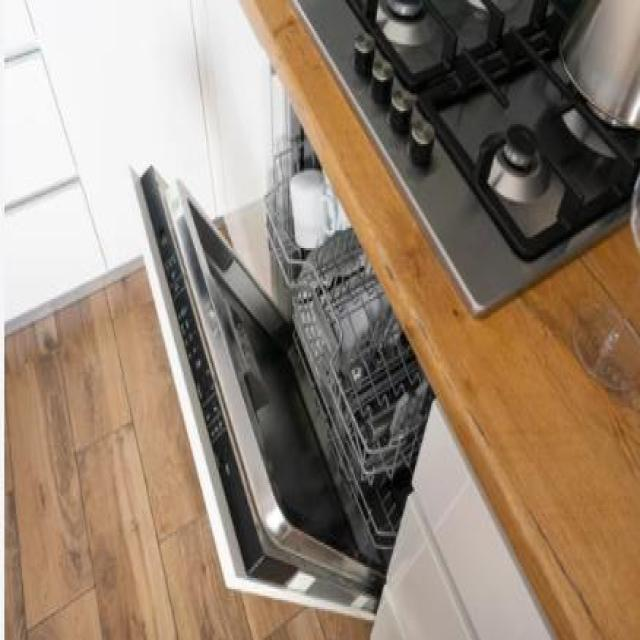dishwasher: (122, 66, 442, 627)
